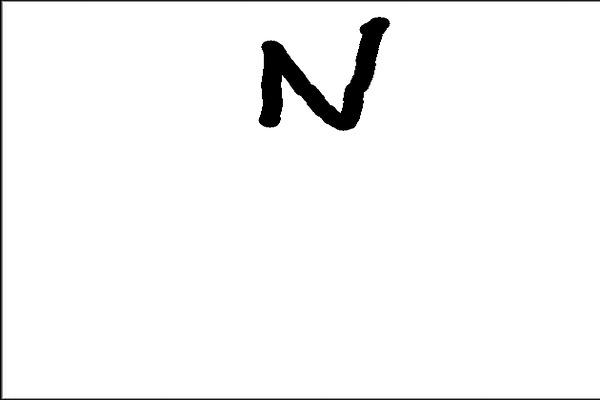N: (252, 13, 397, 134)
